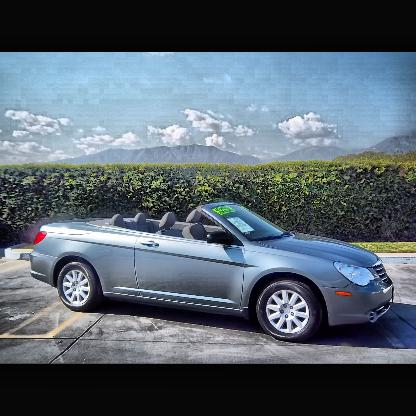Chrysler Sebring Convertible 2010: (31, 203, 395, 342)
